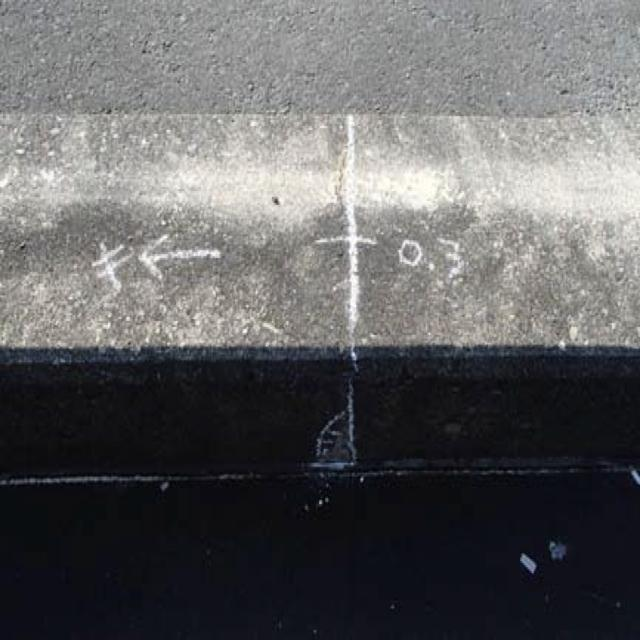crack: (321, 104, 370, 339)
